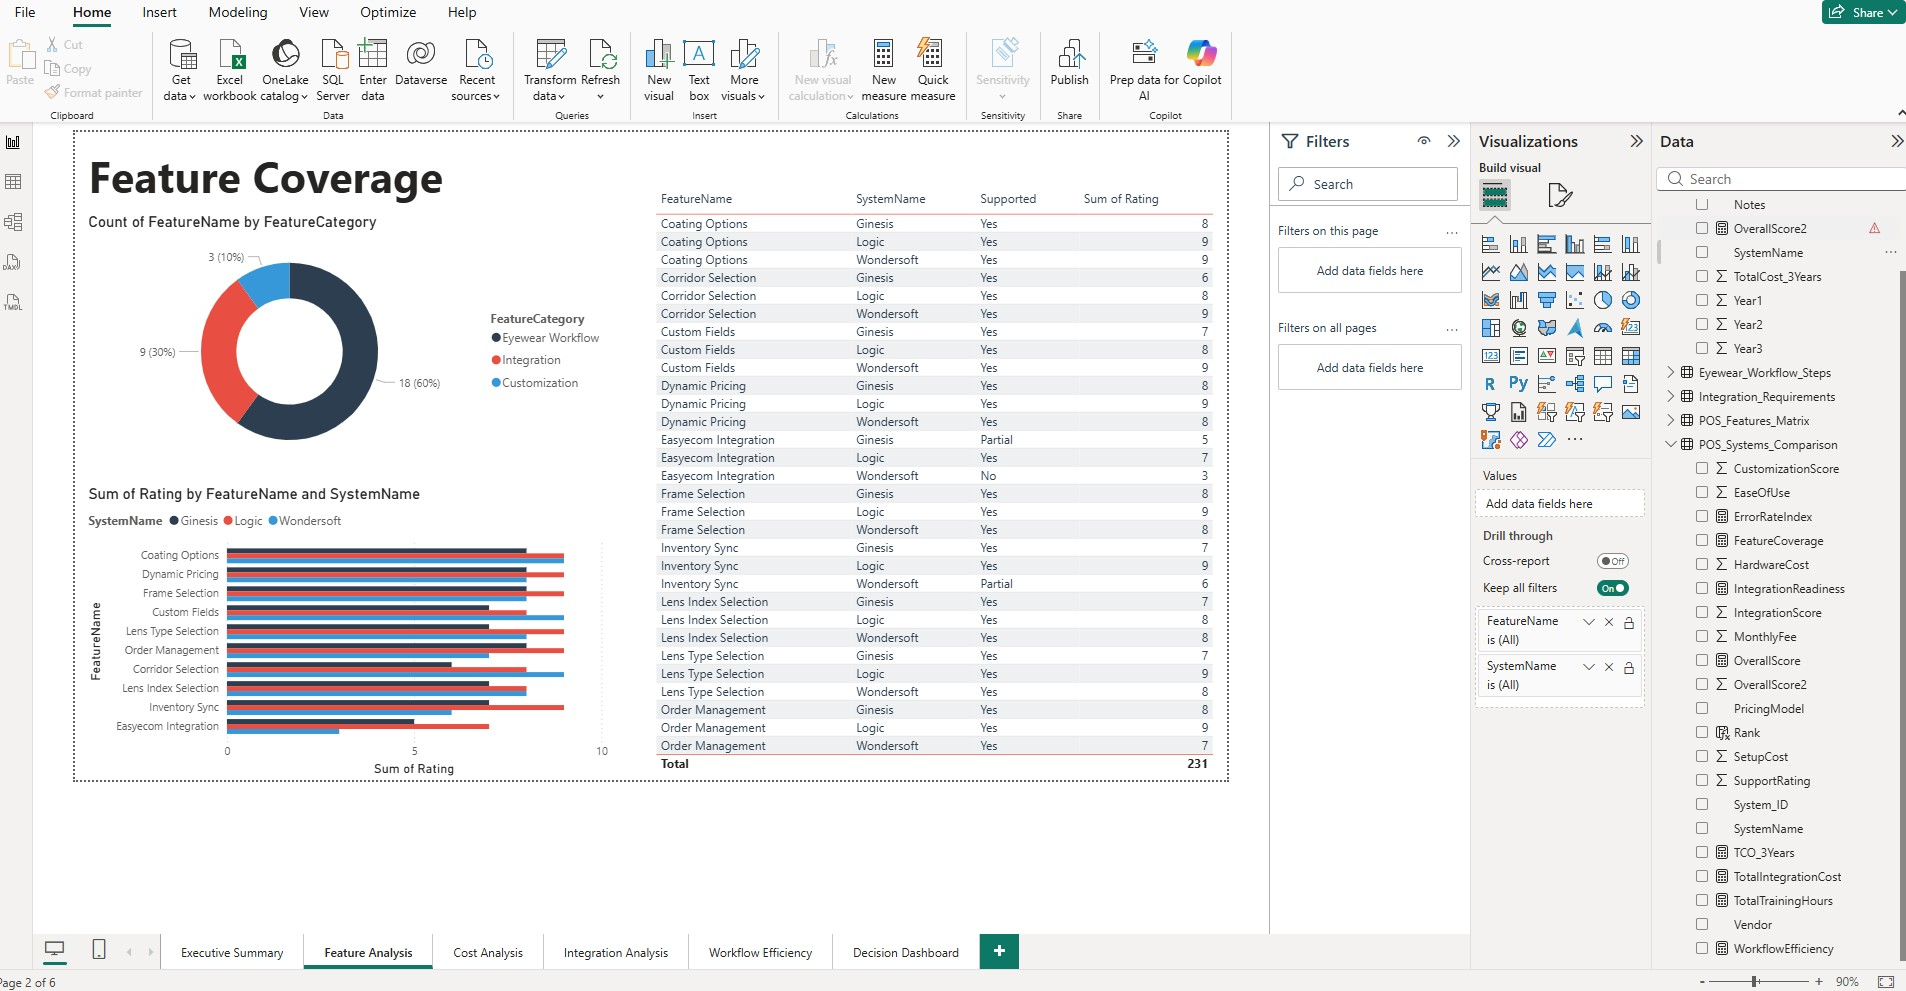

This screenshot's page, from the dashboard's own definition file:
{"tool":"powerbi","page":{"name":"Feature Analysis","canvas":[1280,720],"ordinal":1},"visuals":[{"type":"textbox","box":[9.6,11,477.5,78.2],"z":0},{"type":"donutChart","fields":{"Category":["POS_Features_Matrix.FeatureCategory"],"Y":["CountNonNull(POS_Features_Matrix.FeatureName)"]},"box":[10,90,586.7,288.9],"z":1000},{"type":"tableEx","fields":{"Values":["POS_Features_Matrix.FeatureName","POS_Features_Matrix.SystemName","POS_Features_Matrix.Supported","Sum(POS_Features_Matrix.Rating)"]},"box":[640,58.3,640,661.7],"z":2000},{"type":"clusteredBarChart","fields":{"Category":["POS_Features_Matrix.FeatureName"],"Y":["Sum(POS_Features_Matrix.Rating)"],"Series":["POS_Features_Matrix.SystemName"]},"box":[10,392.3,586.9,327.7],"z":3000}]}

Visuals, with their boxes on the page's 1280x720 design canvas (x1, y1, x2, y2). These are canvas units, not pixel positions in the 1906x991 screenshot, which may show the page scaled, cropped or inside an application window:
textbox: region(10, 11, 487, 89)
donutChart - POS_Features_Matrix.FeatureCategory x CountNonNull(POS_Features_Matrix.FeatureName): region(10, 90, 597, 379)
tableEx - POS_Features_Matrix.FeatureName x POS_Features_Matrix.SystemName: region(640, 58, 1280, 720)
clusteredBarChart - POS_Features_Matrix.FeatureName x Sum(POS_Features_Matrix.Rating): region(10, 392, 597, 720)
